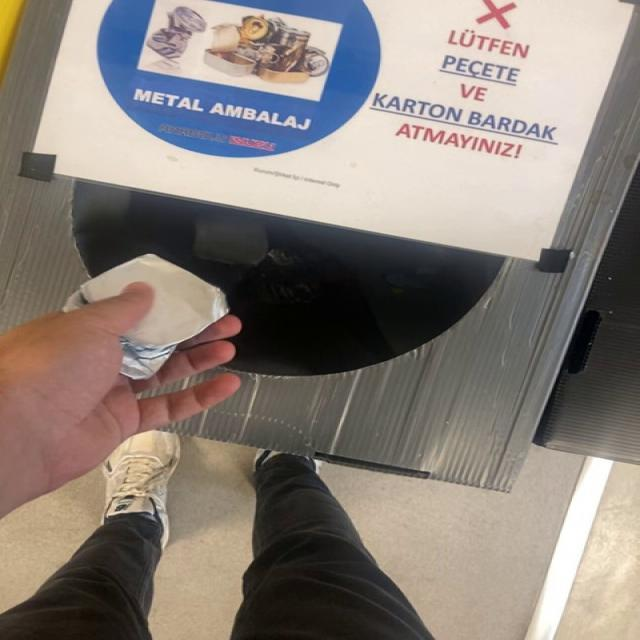Bin: (1, 0, 640, 492)
Metal: (63, 254, 228, 380)
